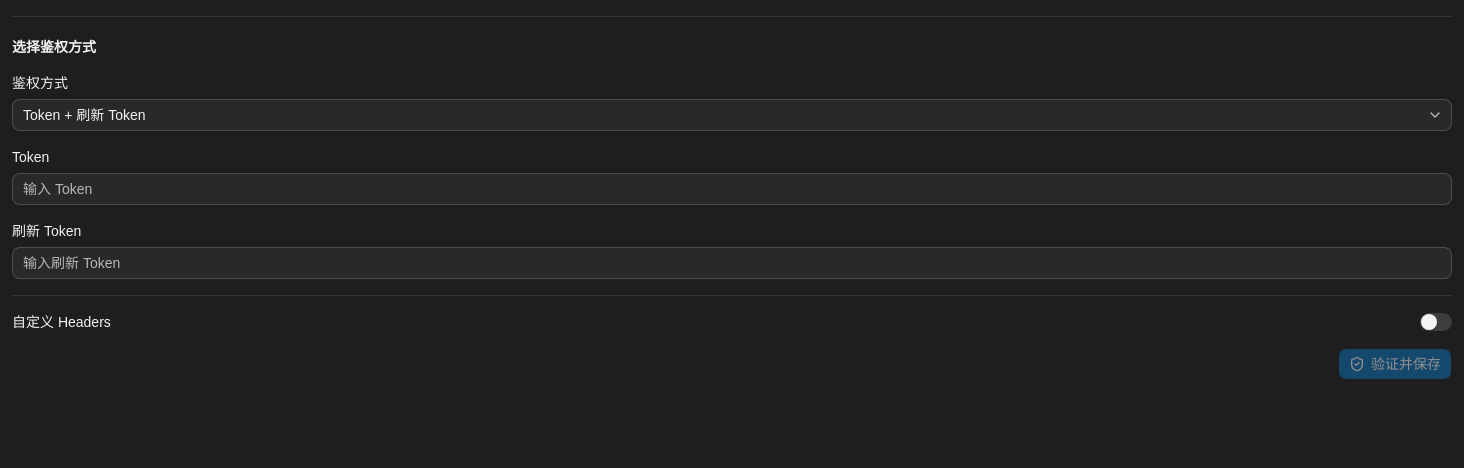
手动鉴权表单可访问性 › 切换账号密码并启用保存时用户名密码及凭据名称关联标签
What coordinates should you click on to do the following:
click the dropdown named "鉴权方式"
I would click on:
 (84, 115)
Its box is [12,99,1452,131].
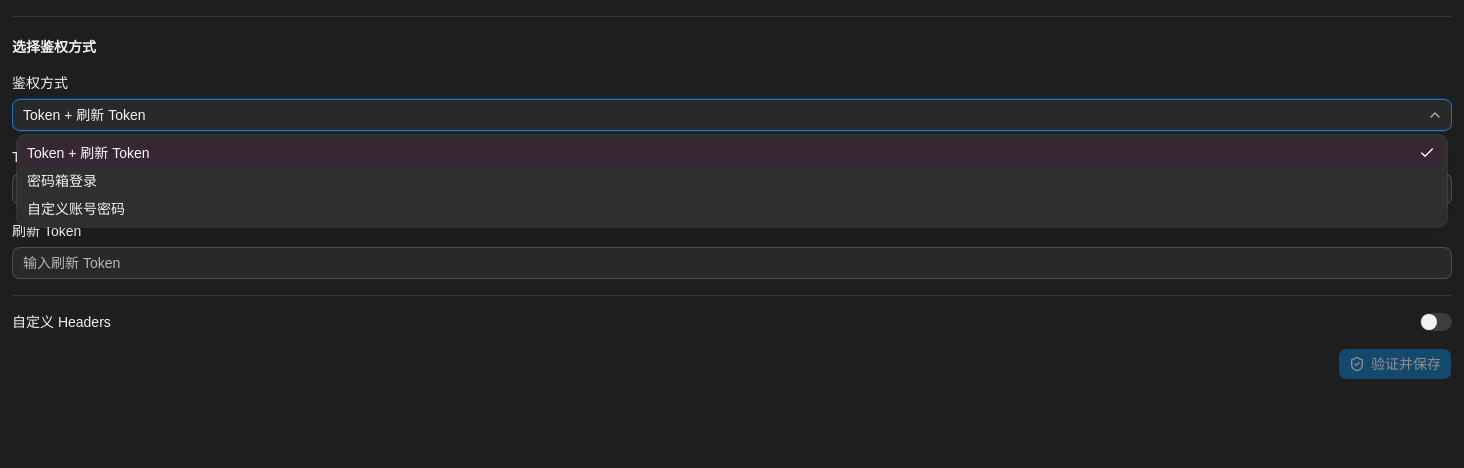
What coordinates should you click on to do the following:
click the option "自定义账号密码"
I would click on:
 (76, 209)
Its box is [27,201,125,217].
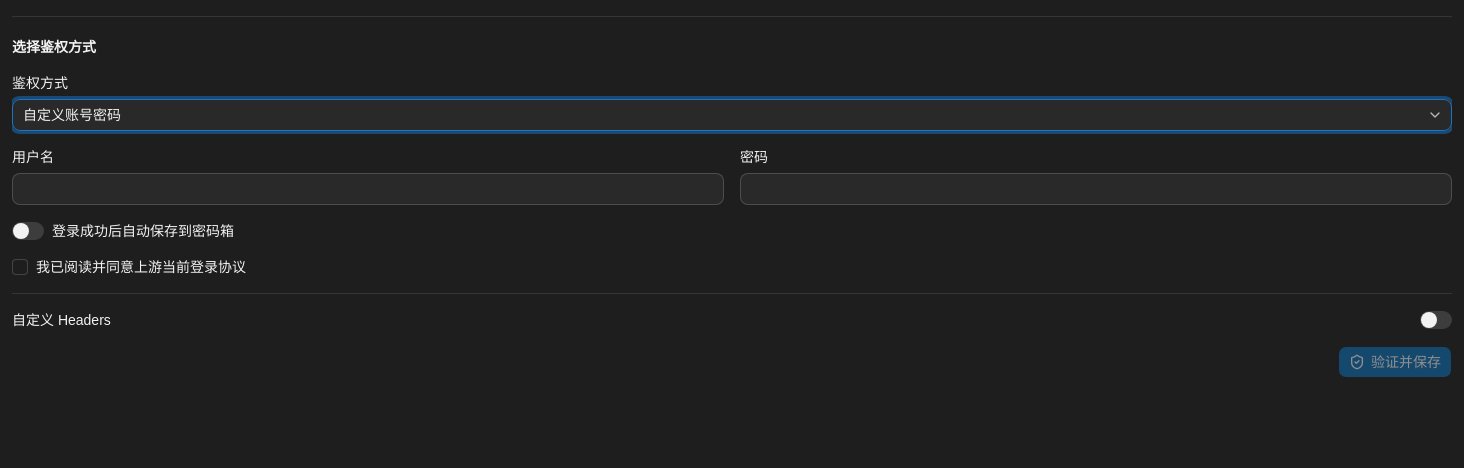
What coordinates should you click on to do the following:
click the switch named "登录成功后"
I would click on:
 (28, 231)
Its box is [12,222,44,240].
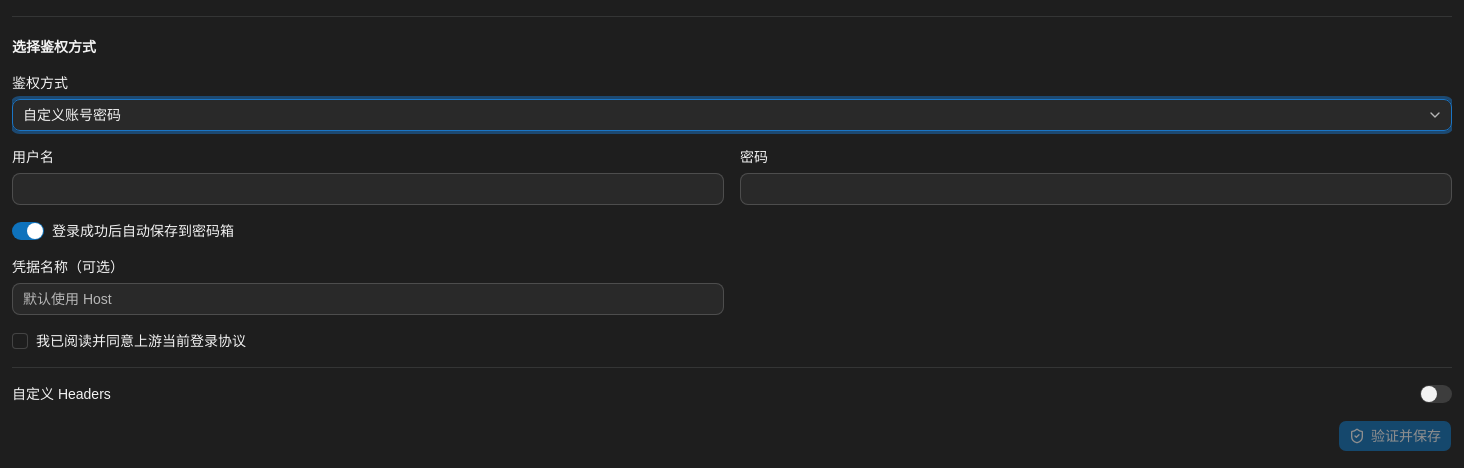
Result: the field labelled "用户名" is shown at [12,173,724,205]
Result: the password field labelled "密码" is shown at [740,173,1452,205]
Result: the field labelled "凭据名称（可选）" is shown at [12,283,724,315]
